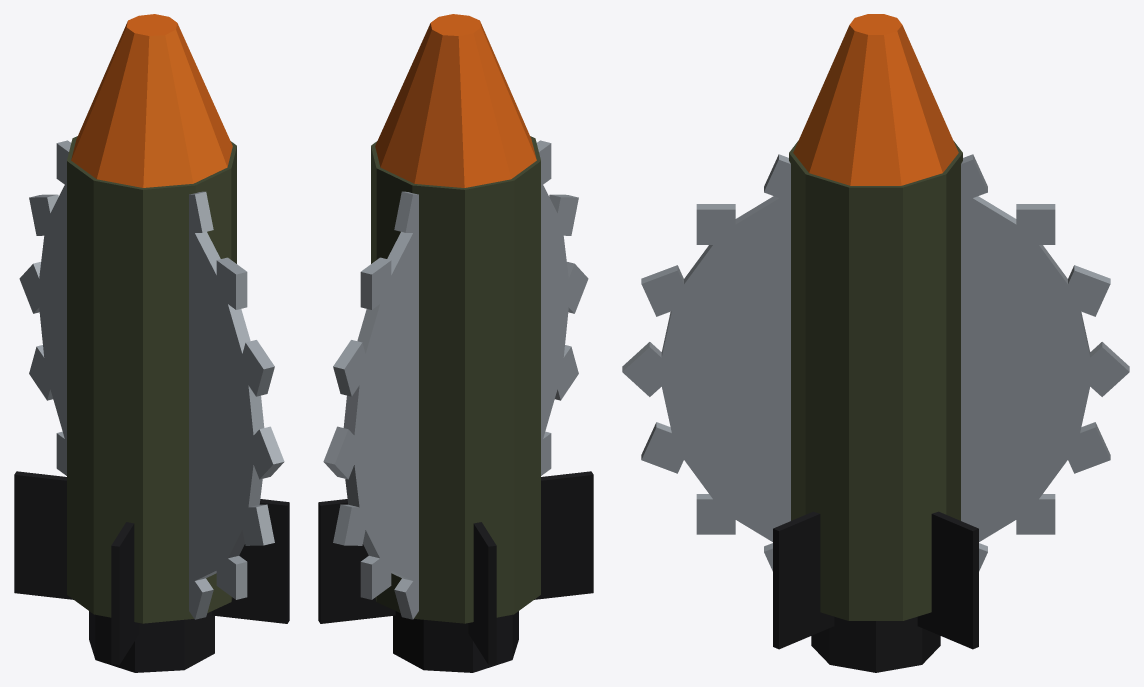
The model's file is projectiles.glb.
3 renders of one model, left to right at view 1: azimuth 30°, elevation 25°; view 2: azimuth 150°, elevation 25°; view 3: azimuth 270°, elevation 25°, orthographic.
Parts seen in each view (by area): view 1: proj_rocket, proj_blade; view 2: proj_rocket, proj_blade; view 3: proj_rocket, proj_blade.
Boxes of the visible parts, x1,y1,x2,y2 form: proj_rocket: [14, 14, 289, 672]; proj_blade: [19, 140, 284, 619]; proj_rocket: [318, 14, 593, 672]; proj_blade: [323, 140, 588, 619]; proj_rocket: [773, 14, 978, 672]; proj_blade: [622, 154, 1129, 571].
Size of the model in its own units: 0.0947 by 0.3152 by 0.2334.
